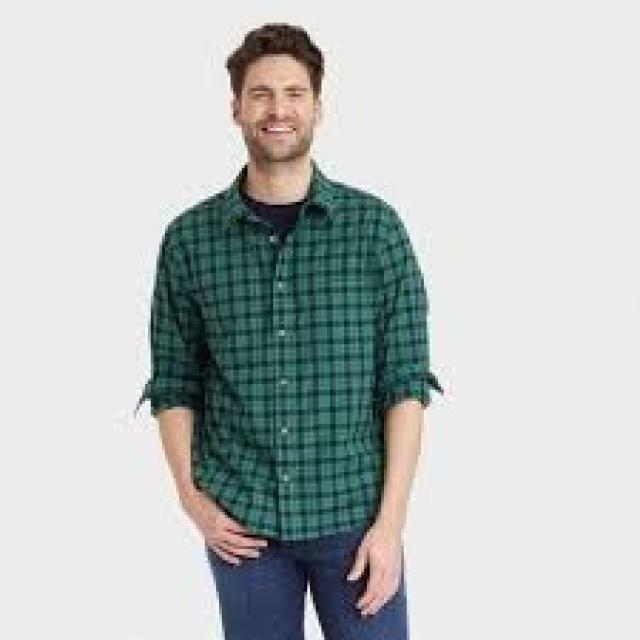plaid: (149, 188, 441, 550)
